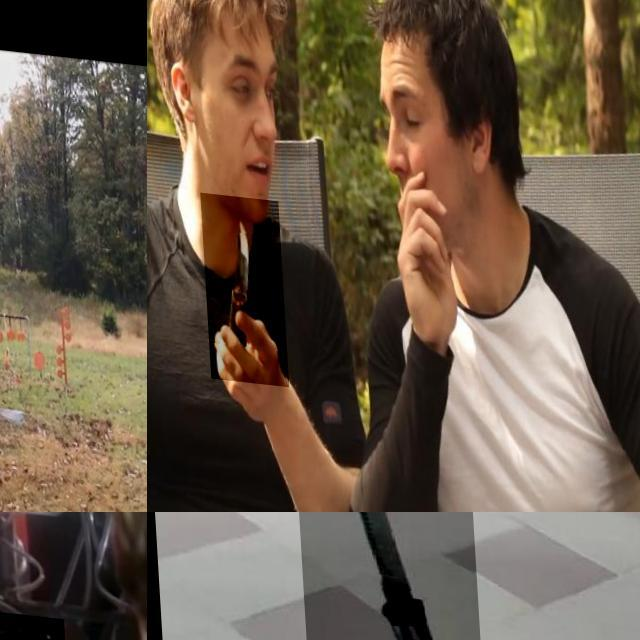-: (287, 512, 476, 640), (198, 189, 284, 382)
gun-knife-thesis - v11 Yolov5 augmented: (0, 374, 39, 509)
